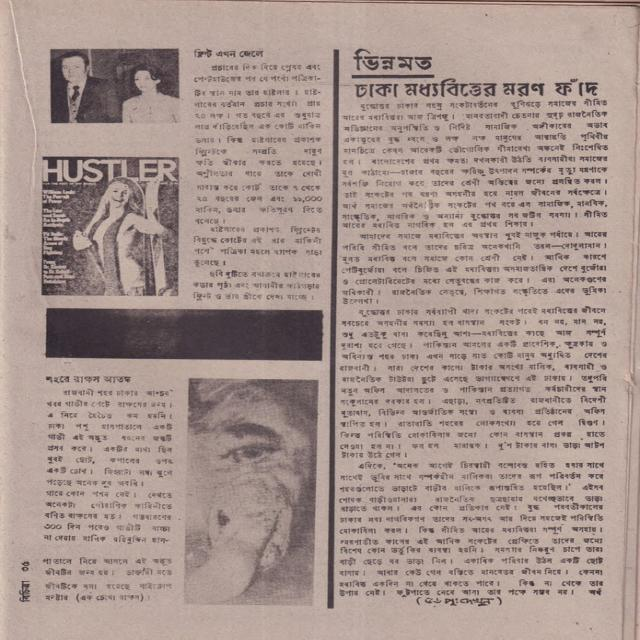image: (186, 379, 317, 605), (43, 158, 179, 295), (52, 49, 179, 124)
page number: (19, 561, 30, 573)
paragraph: (338, 305, 609, 459), (335, 461, 606, 598), (340, 97, 612, 230), (193, 62, 326, 225), (340, 229, 612, 307), (43, 388, 174, 545), (40, 558, 174, 602), (192, 226, 324, 268), (190, 269, 323, 303)
text: (419, 598, 502, 606), (18, 580, 32, 602)
title: (352, 49, 599, 98), (194, 49, 265, 59), (45, 376, 131, 384)
